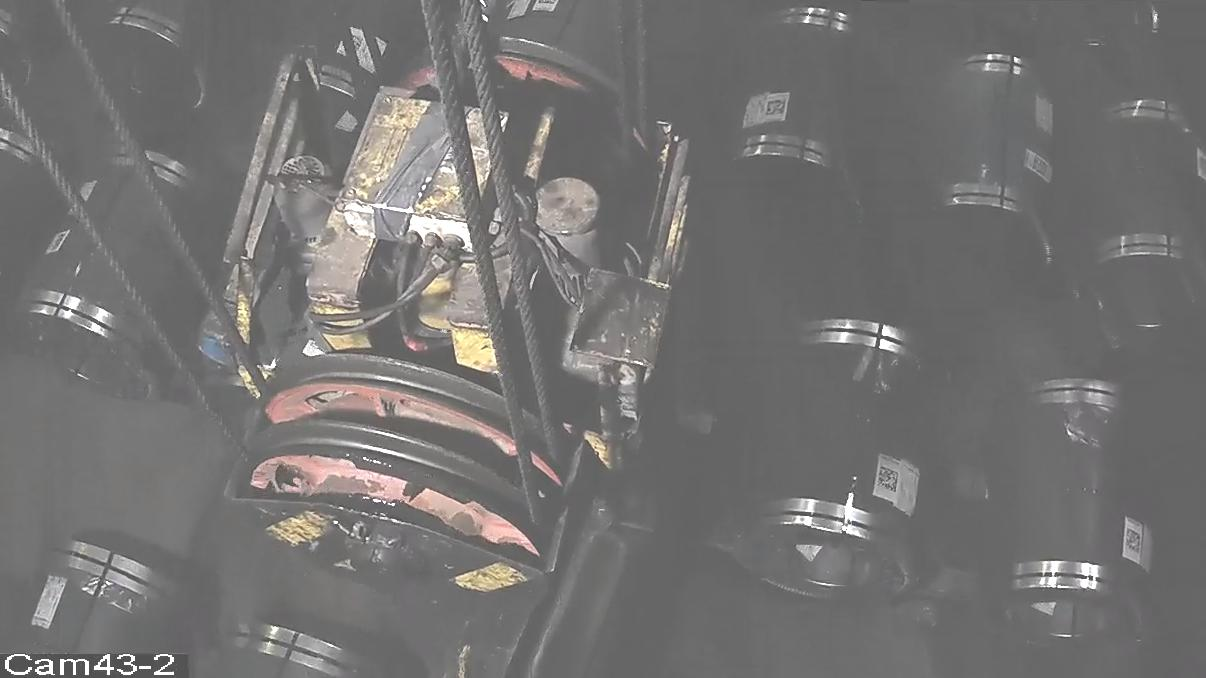data matrix: (876, 465, 901, 495), (765, 97, 788, 120), (1125, 528, 1143, 557), (537, 1, 564, 9)
